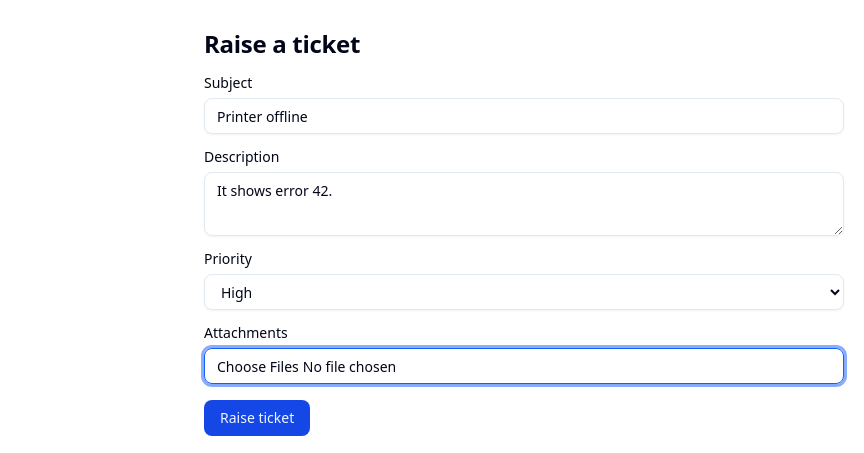
Test: a ticket is raised with its subject, description, priority and files, then the list is shown
This screenshot has width=864, height=453.
Earlier steps of the test are not shown.
Click the button "Raise ticket" at (257, 418), box [204,400,310,436]
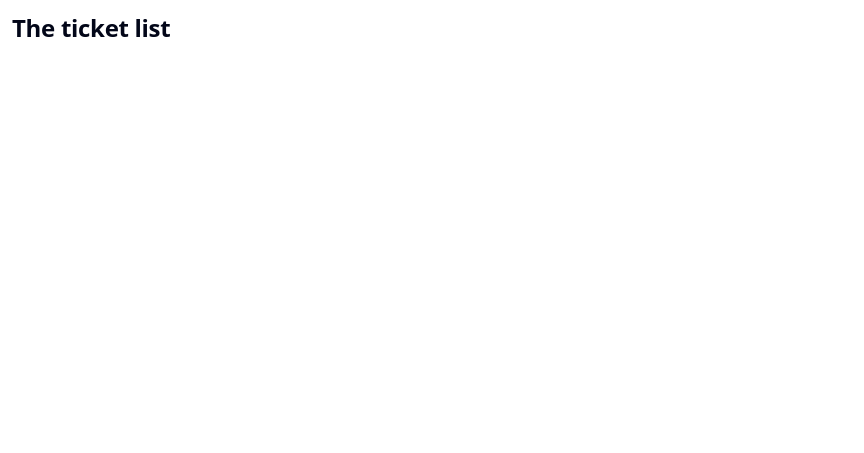
Now the heading "The ticket list" is shown, box [12,11,170,44]
